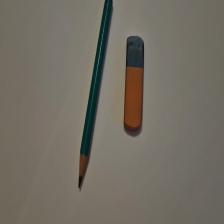eraser: (124, 36, 145, 132)
pencil: (79, 1, 114, 189)
